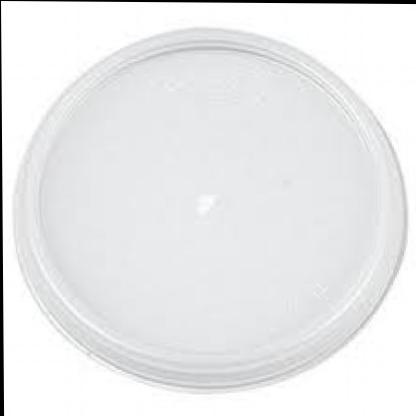trash: (14, 29, 406, 387)
